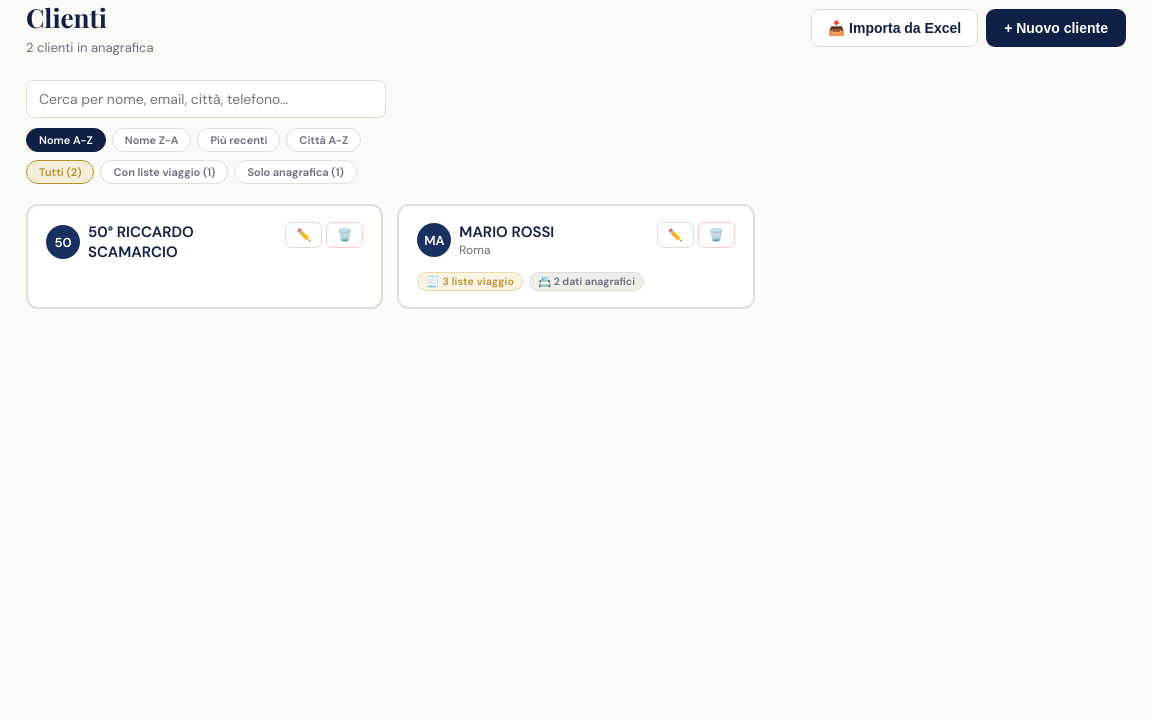
Test: Anagrafica — eliminazione di un cliente con liste › spiega perché non si può, invece di far premere Rimuovi
Expected: the text "🧾 3 liste viaggio" is shown, [417,272,523,291]
Click the 2nd button "🗑️" at point(716, 235), box [698,222,735,248]
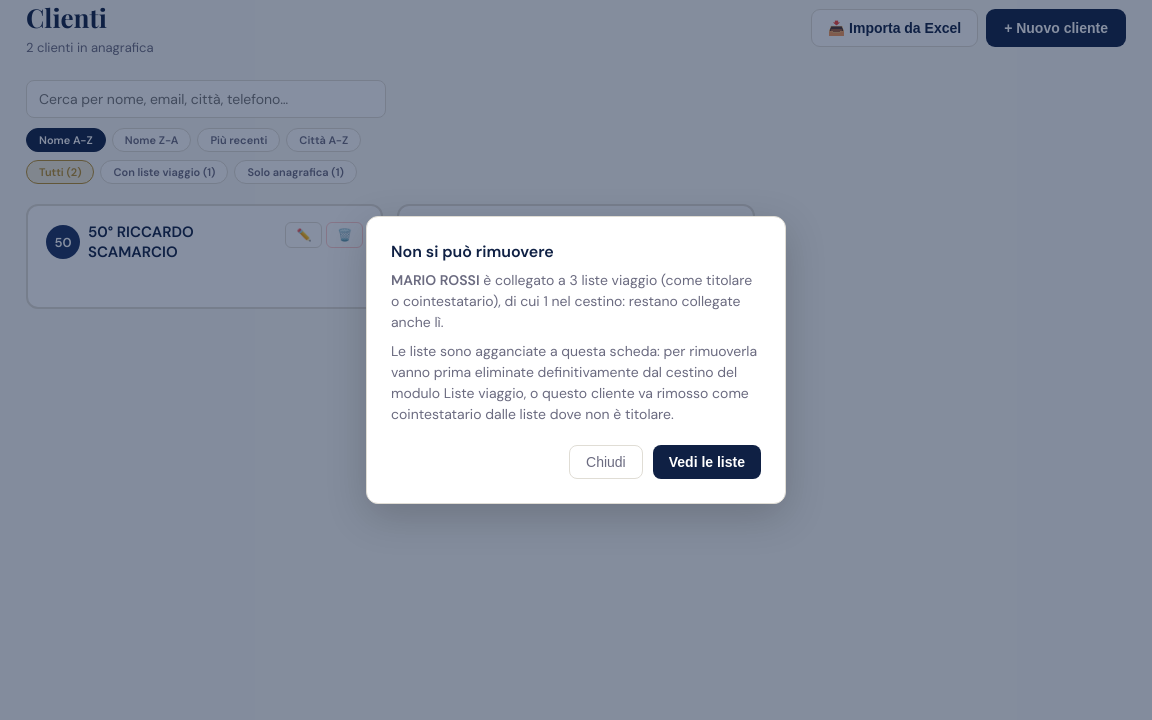
Now the text "3 liste viaggio" is shown, box [569,271,657,289]
Now the text "1 nel cestino" is shown, box [391,292,740,331]
